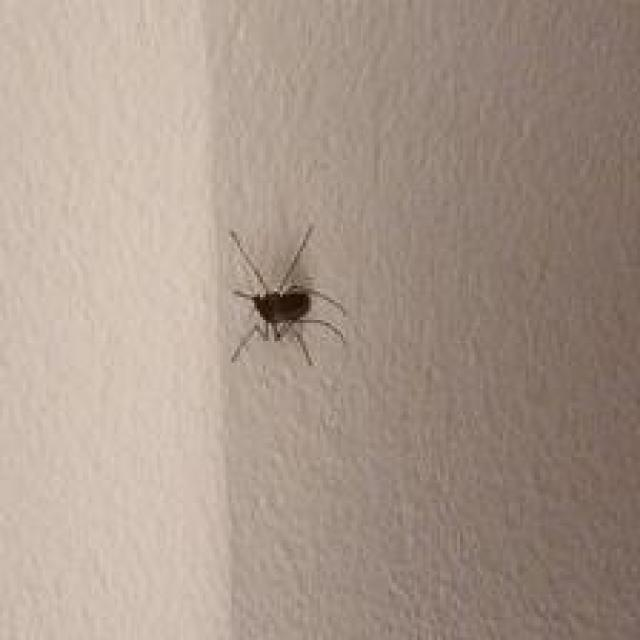Culex: (225, 222, 348, 367)
